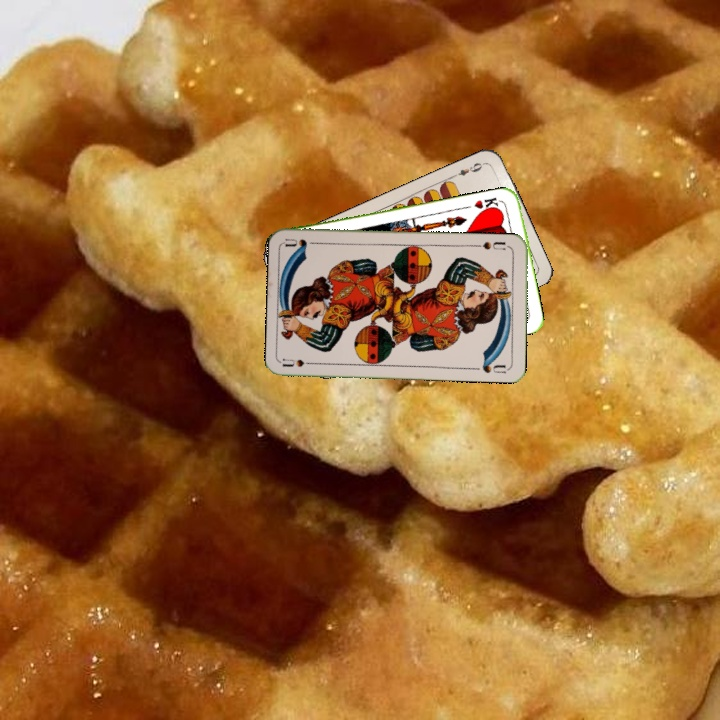E9: (449, 158, 488, 180)
HK: (470, 194, 502, 215)
SU: (280, 355, 320, 369), (472, 238, 508, 253)
